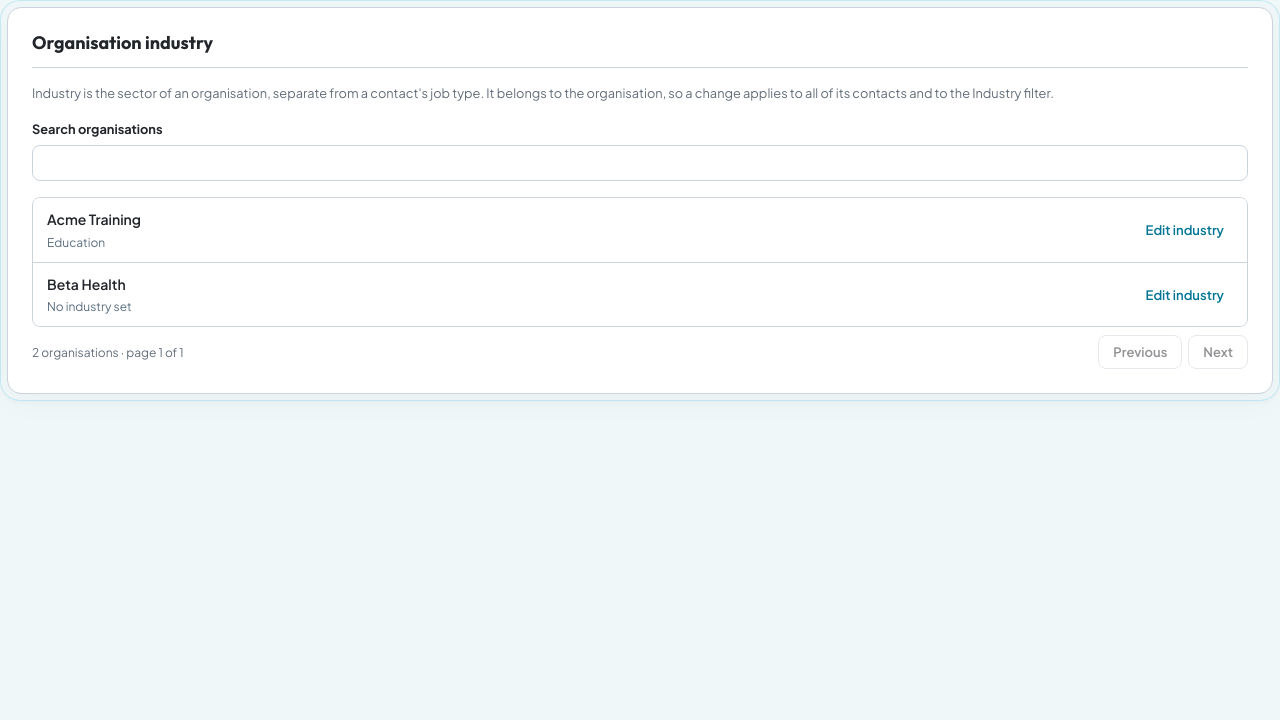
Test: OrganisationSettings › keeps the editor open on other failures
Click the button with aria-label "Edit industry of Acme Training": (1185, 230) [1137,217,1233,243]
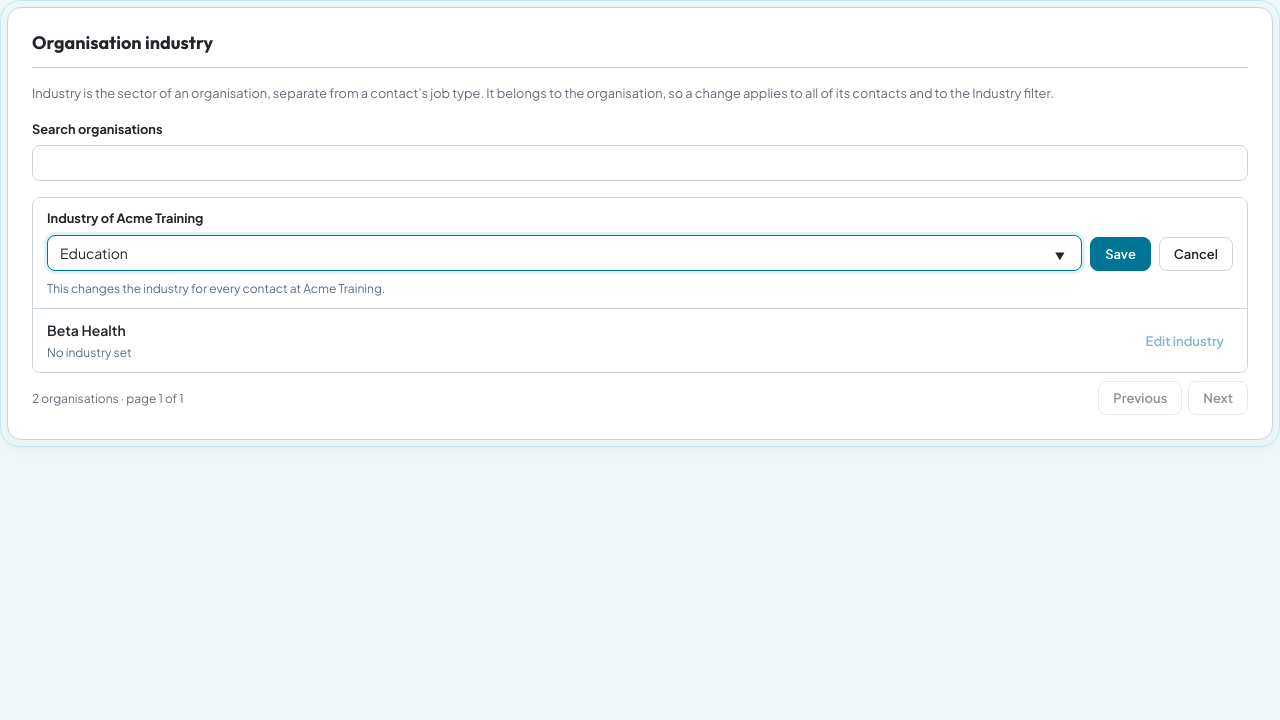
Replace the text in the field labelled "Industry of Acme Training" with "Health": (565, 253) [47,235,1082,271]
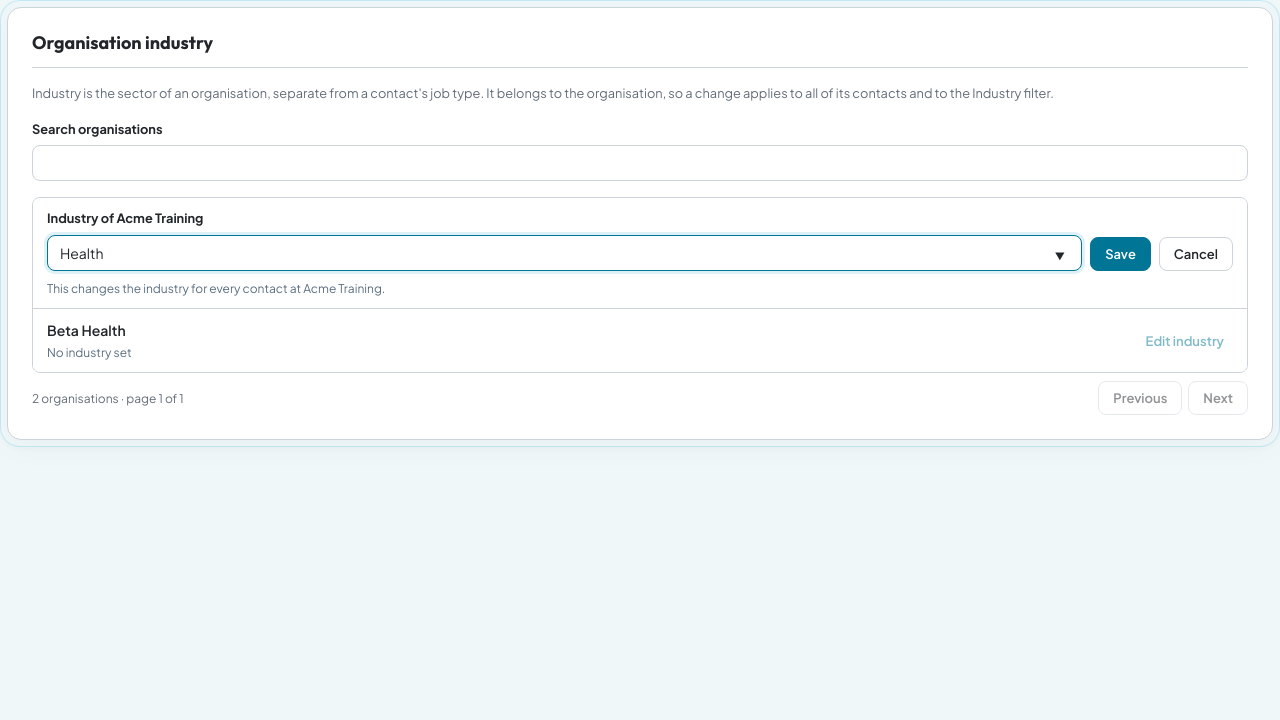
Click the button "Save": (1121, 254) [1090,237,1151,271]
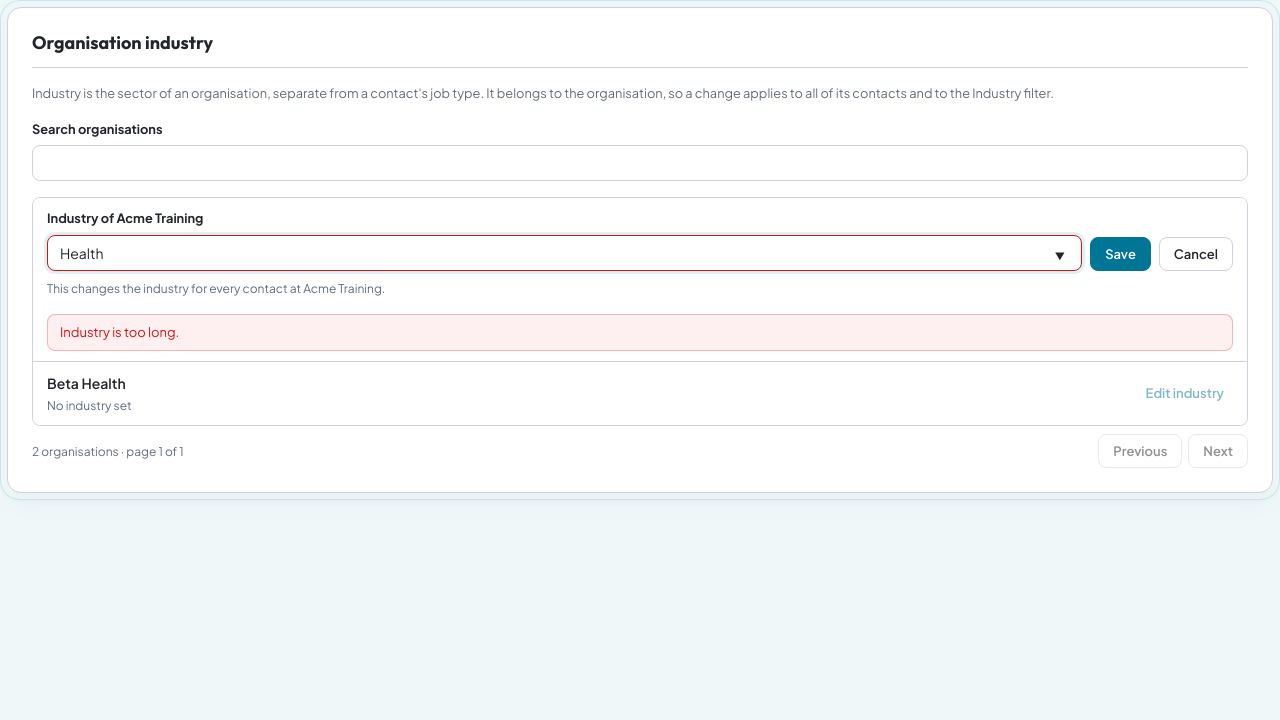
Expected: the message reads "Industry is too long.", [60,324,179,340]
